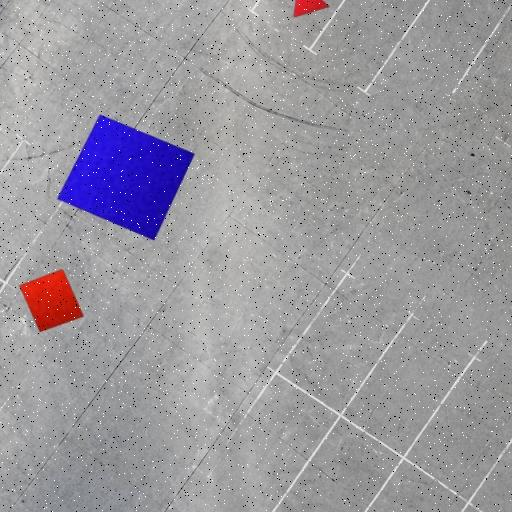BLUE_SQUARE: (56, 114, 195, 242)
RED_SQUARE: (18, 269, 85, 333)
